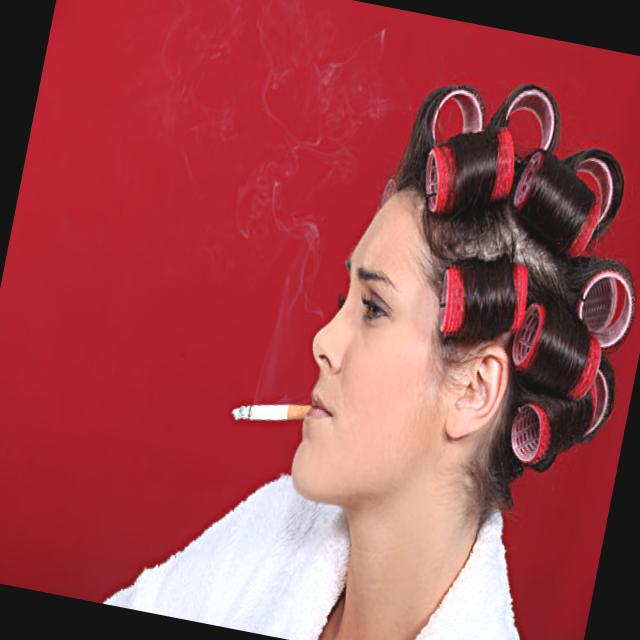cigarette: (228, 382, 314, 442)
